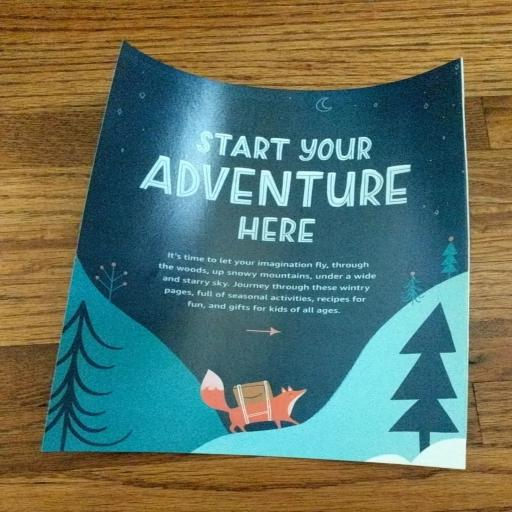paper: (22, 11, 465, 512)
